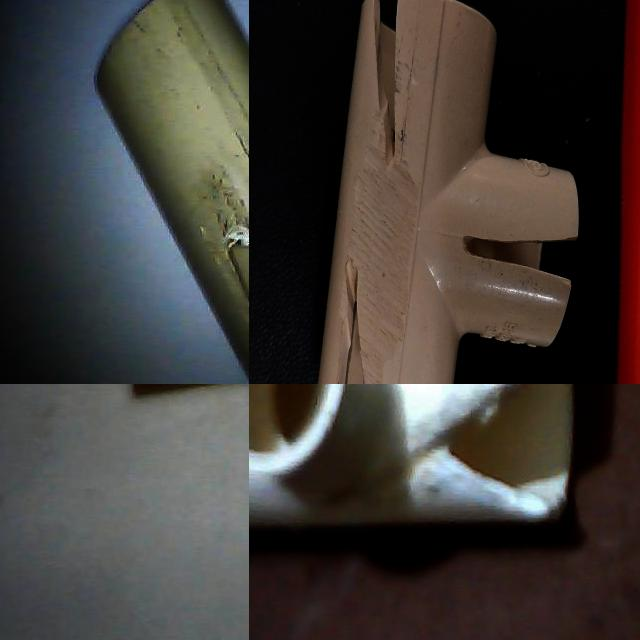Defective: (451, 384, 562, 493), (315, 191, 364, 343), (216, 225, 249, 380)
T Joint: (95, 0, 249, 384), (249, 173, 485, 384), (249, 384, 574, 536), (533, 264, 587, 384)
